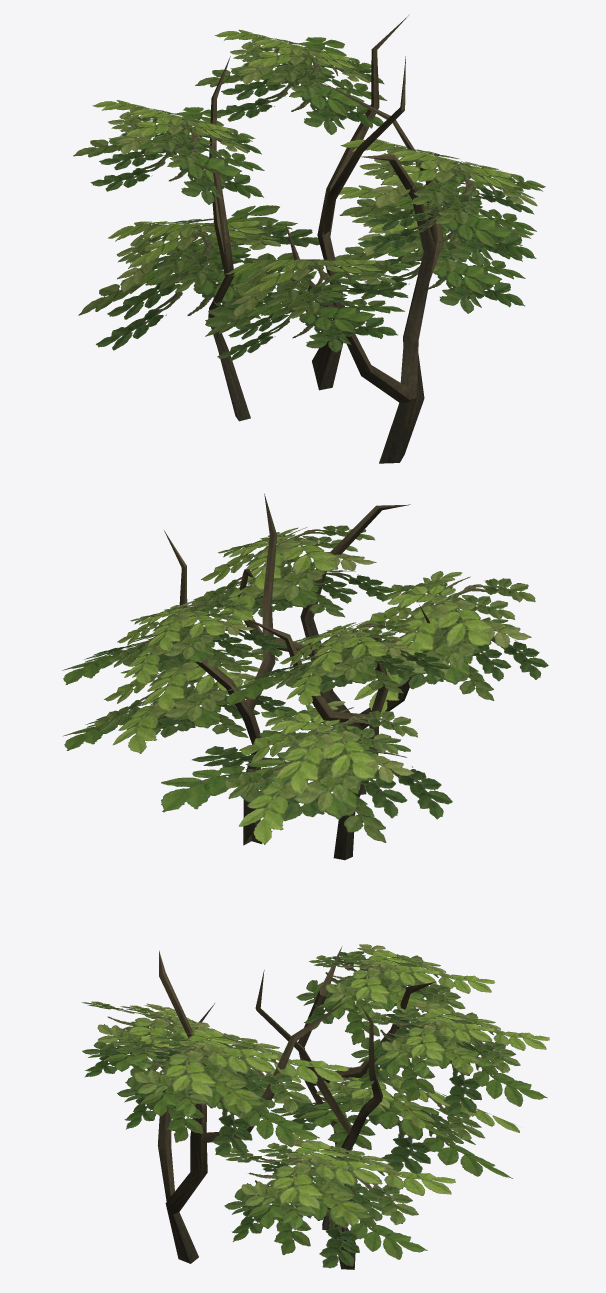
The model's file is Plant_3002_zhiwu01_shu04.FBX.
The picture shows the model from 3 angles, top to bottom: view 1: azimuth 30°, elevation 25°; view 2: azimuth 150°, elevation 25°; view 3: azimuth 270°, elevation 25°; orthographic projection. The views are drawn at different scales.
Parts seen in each view (by area): view 1: Plant_3002_zhiwu01_shu04; view 2: Plant_3002_zhiwu01_shu04; view 3: Plant_3002_zhiwu01_shu04.
Boxes of the visible parts, box(x1,y1,x2,y2) form: Plant_3002_zhiwu01_shu04: box(73, 14, 545, 463); Plant_3002_zhiwu01_shu04: box(62, 493, 548, 860); Plant_3002_zhiwu01_shu04: box(82, 944, 549, 1269).
Bounding box in the file's own units: 7966 × 5459 × 9097.
